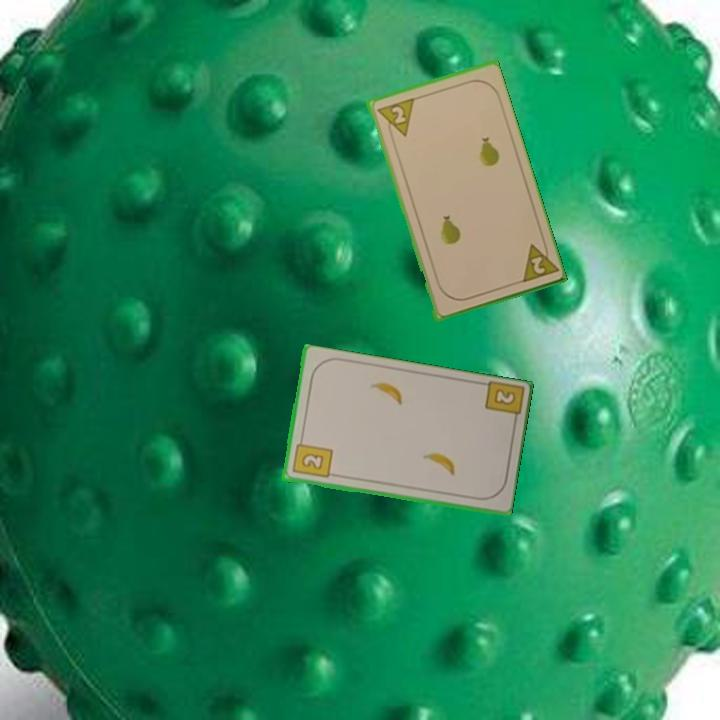2b: (289, 434, 335, 481), (481, 379, 524, 428)
2p: (516, 236, 559, 286), (372, 94, 416, 142)
